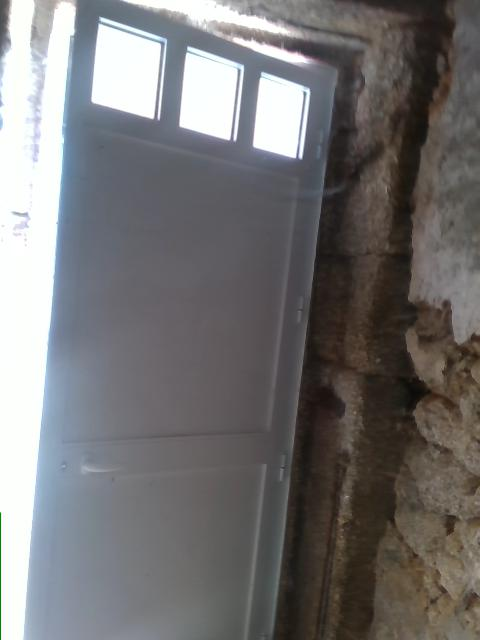door: (2, 4, 340, 635)
